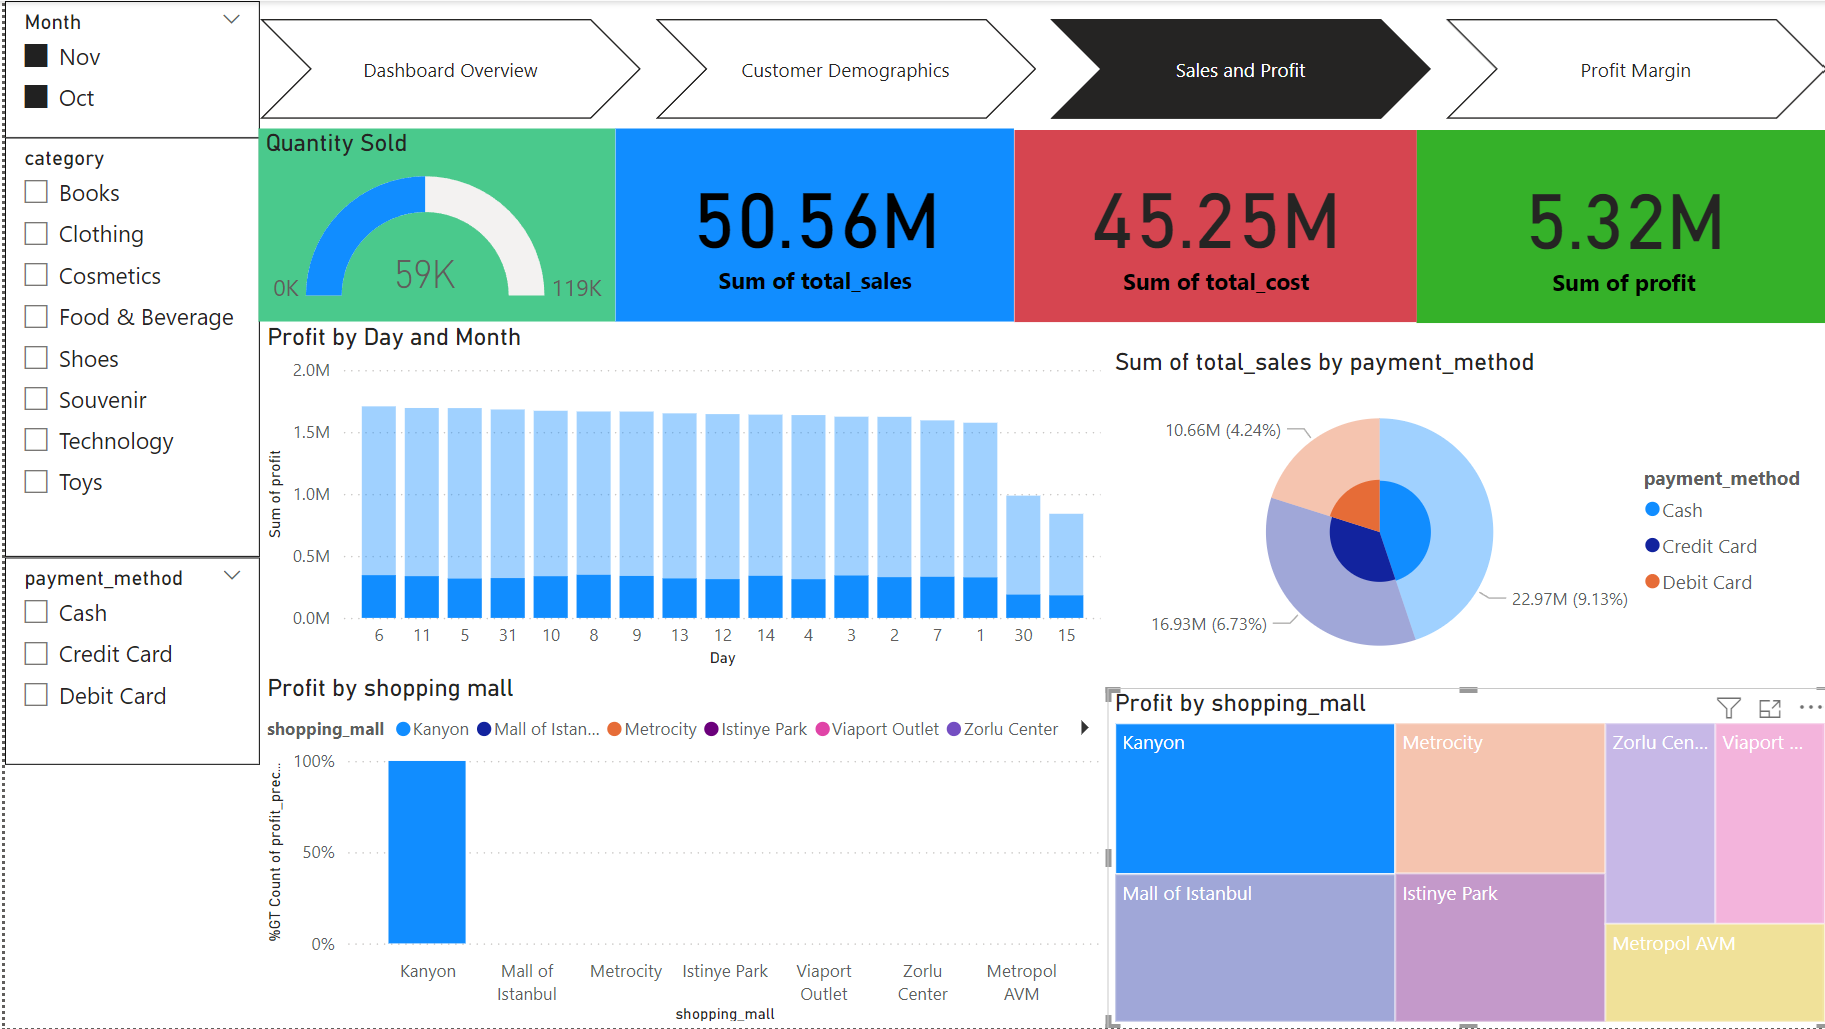

This screenshot's page, from the dashboard's own definition file:
{"tool":"powerbi","page":{"name":"Sales and Profit by Time of Day and payment method impact on sales","canvas":[1280,720],"ordinal":2},"visuals":[{"type":"lineStackedColumnComboChart","title":"Profit by shopping mall","fields":{"Y":["CountNonNull(Table2.profit_precentage)"],"Category":["Table2.shopping_mall"],"Series":["Table2.shopping_mall"]},"box":[178.8,457.5,594.2,262.9],"z":0},{"type":"clusteredColumnChart","title":"Profit by Day and Month","fields":{"Category":["Table2.Day"],"Y":["Sum(Table2.profit)"]},"box":[178.8,135.7,594.2,320.7],"z":1000},{"type":"slicer","fields":{"Values":["Table2.First Characters"]},"box":[0,0,178.4,96.2],"z":2000},{"type":"slicer","fields":{"Values":["Table2.payment_method"]},"box":[0,390.2,178.8,145.1],"z":3000},{"type":"card","fields":{"Values":["Sum(Table2.total_sales)"]},"box":[428.7,0,279.3,135.6],"z":4000},{"type":"card","fields":{"Values":["Sum(Table2.total_cost)"]},"box":[708.8,1.1,281.8,134.6],"z":5000},{"type":"card","fields":{"Values":["Sum(Table2.profit)"]},"box":[990.3,0,289.7,135.6],"z":6000},{"type":"slicer","fields":{"Values":["Table2.category"]},"box":[0,96.2,178.4,294.3],"z":7000},{"type":"gauge","title":"Quantity Sold","fields":{"Y":["Sum(Table2.quantity)"]},"box":[178.4,0,250.3,135.6],"z":8000},{"type":"pieChart","fields":{"Category":["Table2.payment_method"],"Y":["Sum(Table2.total_sales)"]},"box":[772.9,135.7,506.9,346],"z":9000},{"type":"treemap","title":"Profit by shopping_mall","fields":{"Group":["Table2.shopping_mall"],"Values":["Sum(Table2.profit)"]},"box":[772.9,429.1,506.9,291.3],"z":10000}]}

Visuals, with their boxes on the page's 1280x720 design canvas (x1, y1, x2, y2). These are canvas units, not pixel positions in the 1825x1029 screenshot, which may show the page scaled, cropped or inside an application window:
"Profit by shopping mall" lineStackedColumnComboChart: select_region(179, 458, 773, 720)
"Profit by Day and Month" clusteredColumnChart: select_region(179, 136, 773, 456)
slicer - Table2.First Characters: select_region(0, 0, 178, 96)
slicer - Table2.payment_method: select_region(0, 390, 179, 535)
card - Sum(Table2.total_sales): select_region(429, 0, 708, 136)
card - Sum(Table2.total_cost): select_region(709, 1, 991, 136)
card - Sum(Table2.profit): select_region(990, 0, 1280, 136)
slicer - Table2.category: select_region(0, 96, 178, 390)
"Quantity Sold" gauge: select_region(178, 0, 429, 136)
pieChart - Table2.payment_method x Sum(Table2.total_sales): select_region(773, 136, 1280, 482)
"Profit by shopping_mall" treemap: select_region(773, 429, 1280, 720)
